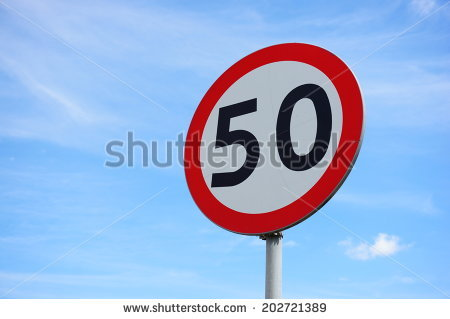Speed_limit_50km: (183, 43, 364, 238)
